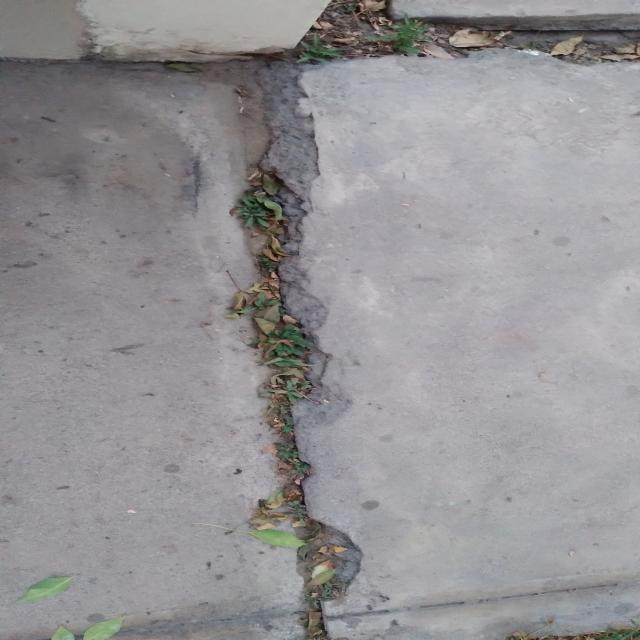hole: (251, 480, 381, 638)
